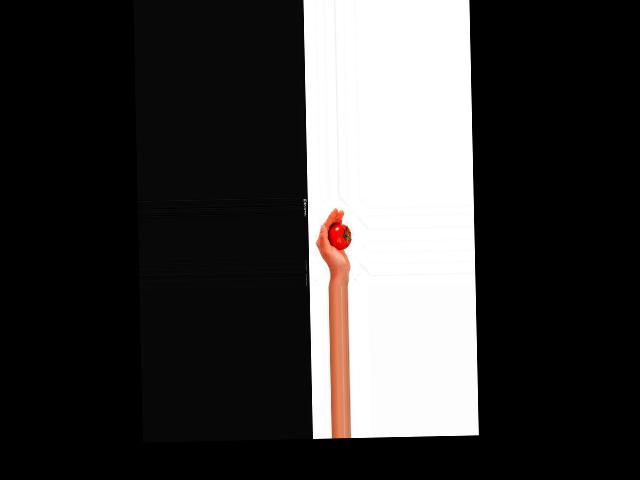tomato: (328, 224, 350, 250)
